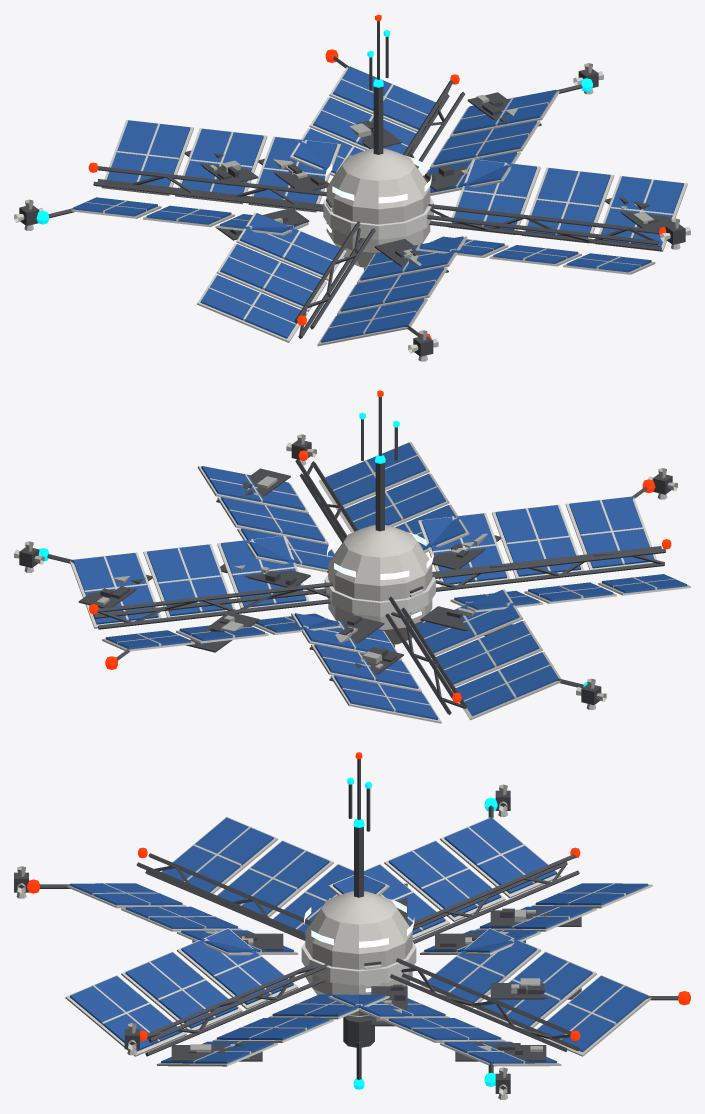
File: solar_plant.glb
The picture shows the model from 3 angles, top to bottom: view 1: azimuth 30°, elevation 25°; view 2: azimuth 150°, elevation 25°; view 3: azimuth 270°, elevation 25°; orthographic projection. The views are drawn at different scales.
Parts seen in each view (by area): view 1: solar_plant; view 2: solar_plant; view 3: solar_plant.
Part boxes in pixels (x1,y1,x2,y2): solar_plant: (14,14,690,361); solar_plant: (14,390,690,723); solar_plant: (14,752,690,1099).
Bounding box in the file's own units: 1.83 × 0.9527 × 1.77.
